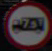Heavy Vehicles: (5, 5, 47, 43)
